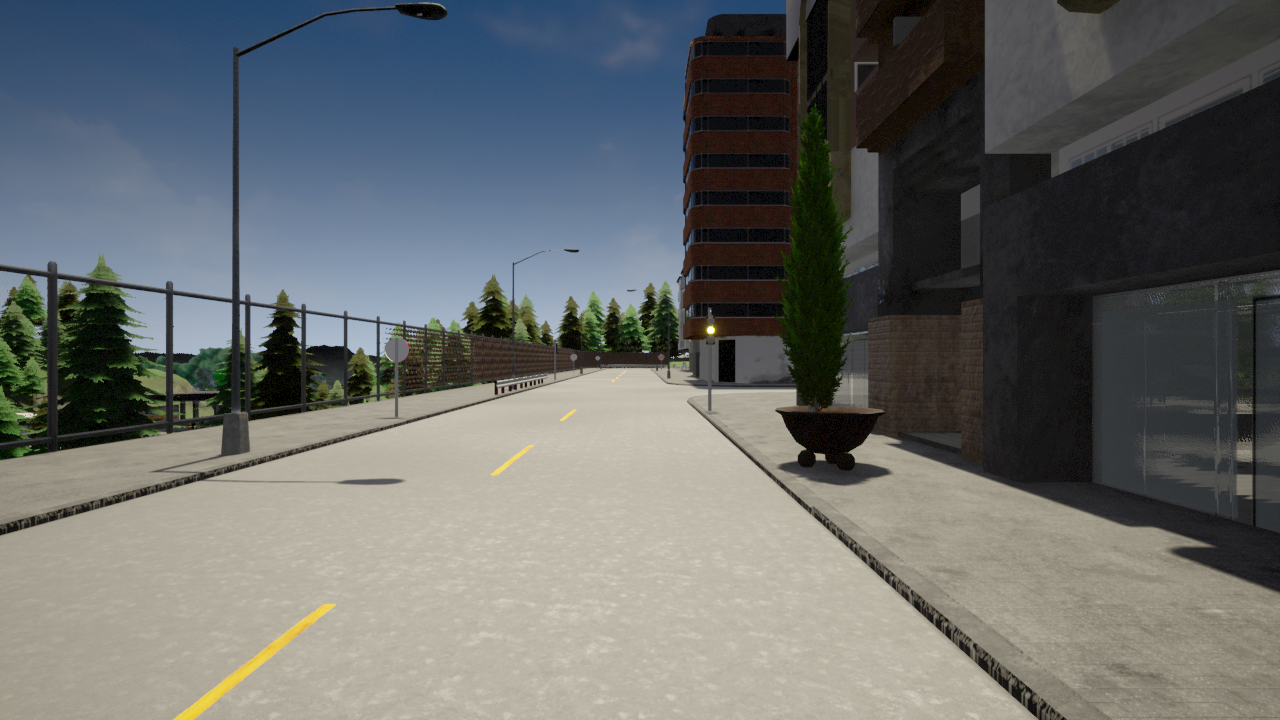yellow: (705, 315, 716, 345)
